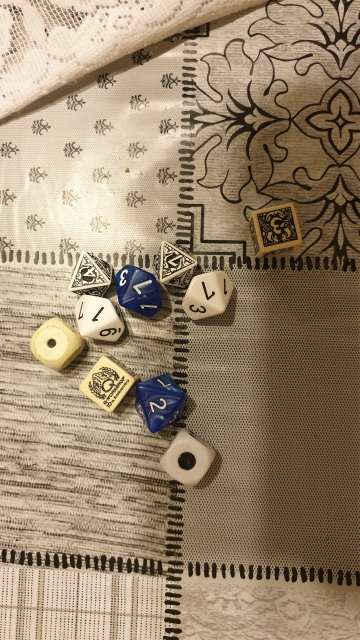d10-1: (69, 293, 131, 349)
d10-2: (132, 374, 190, 431)
d10-7: (175, 267, 243, 325), (115, 262, 165, 319)
d6-1: (155, 426, 222, 490), (25, 320, 86, 372)
d6p-3: (245, 201, 310, 260)
d6p-6: (73, 353, 133, 413)
d8p-4: (65, 247, 112, 296)
d8p-7: (151, 235, 194, 290)
